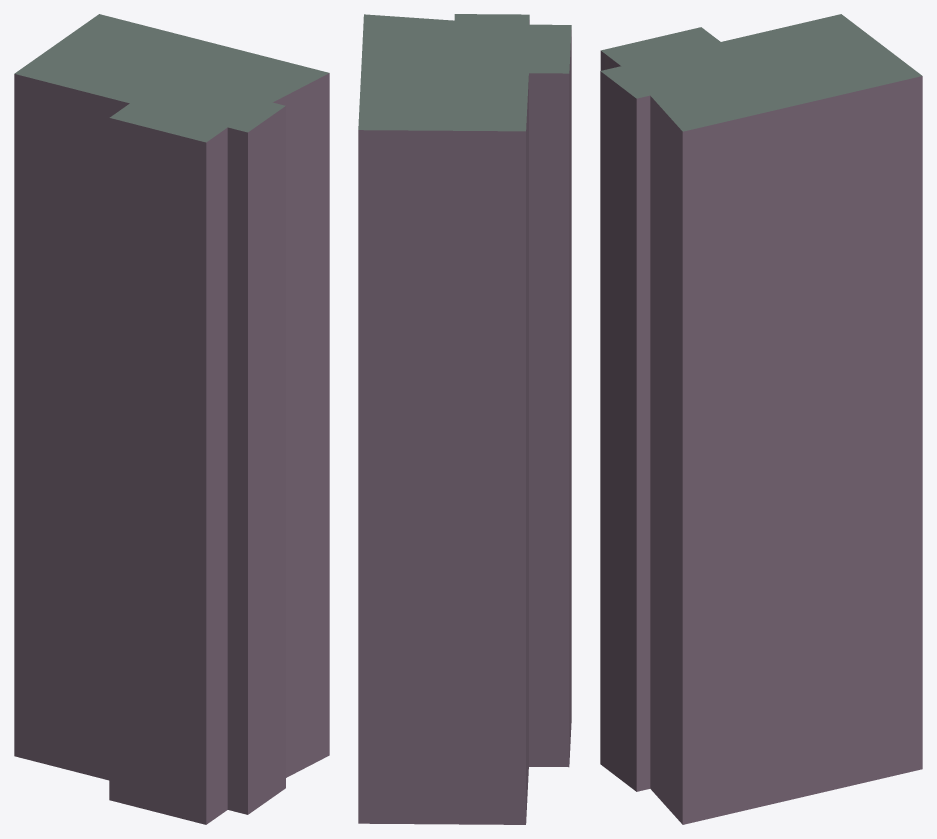
Rendered from nyc-1024656-0.glb.
3 views of the same model, side by side, from view 1: azimuth 30°, elevation 25°; view 2: azimuth 150°, elevation 25°; view 3: azimuth 270°, elevation 25° (orthographic).
Parts seen in each view (by area): view 1: nyc-1024656-0; view 2: nyc-1024656-0; view 3: nyc-1024656-0.
Part boxes in pixels (box(x1,y1,x2,y2)): nyc-1024656-0: box(14, 14, 329, 824); nyc-1024656-0: box(358, 14, 571, 824); nyc-1024656-0: box(600, 14, 922, 824).
Size of the model in its own units: 60.03 by 165 by 69.44.
